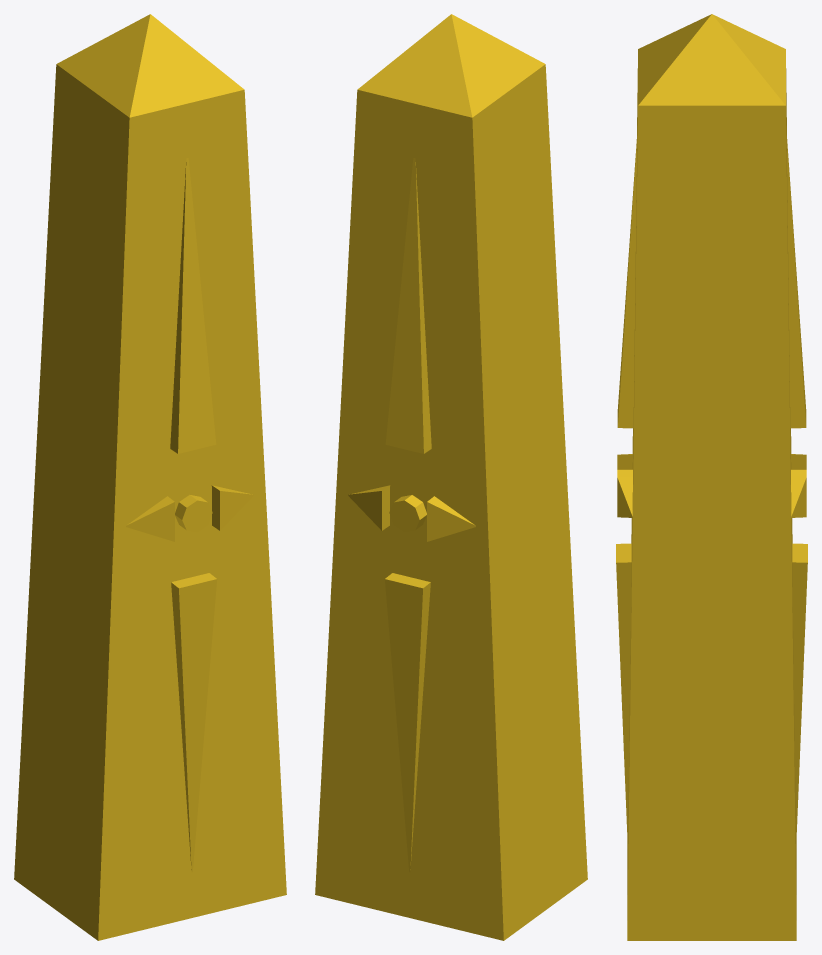
Rendered from ParkTotem_Geo.fbx.
3 renders of one model, left to right at view 1: azimuth 30°, elevation 25°; view 2: azimuth 150°, elevation 25°; view 3: azimuth 270°, elevation 25°, orthographic.
Parts seen in each view (by area): view 1: parkTotem; view 2: parkTotem; view 3: parkTotem.
Part boxes in pixels (left/top/right/bottom): parkTotem: left=14, top=14, right=286, bottom=940; parkTotem: left=315, top=14, right=587, bottom=940; parkTotem: left=616, top=14, right=807, bottom=940.
Size of the model in its own units: 384 by 1698 by 335.
